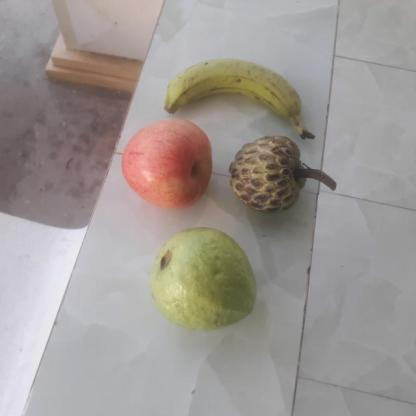annona: (226, 135, 310, 213)
apple: (119, 118, 217, 209)
banana: (160, 56, 315, 121)
guava: (145, 229, 255, 329)
